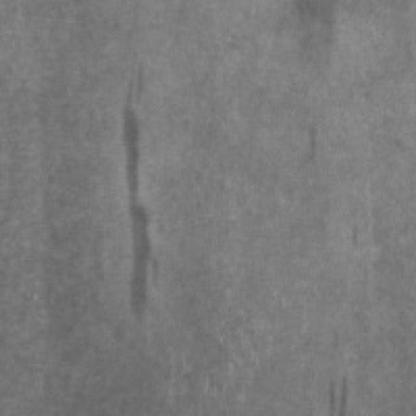inclusion: (108, 60, 164, 344), (316, 366, 362, 412)
